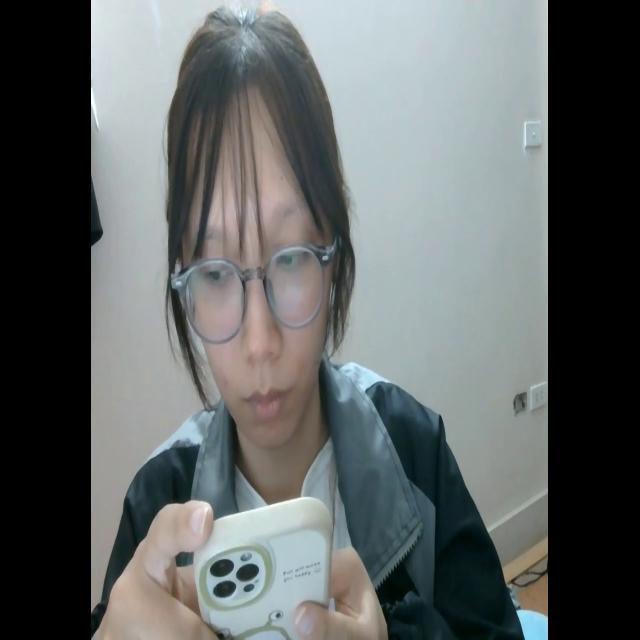phone: (190, 495, 330, 640)
student: (90, 4, 522, 640)
